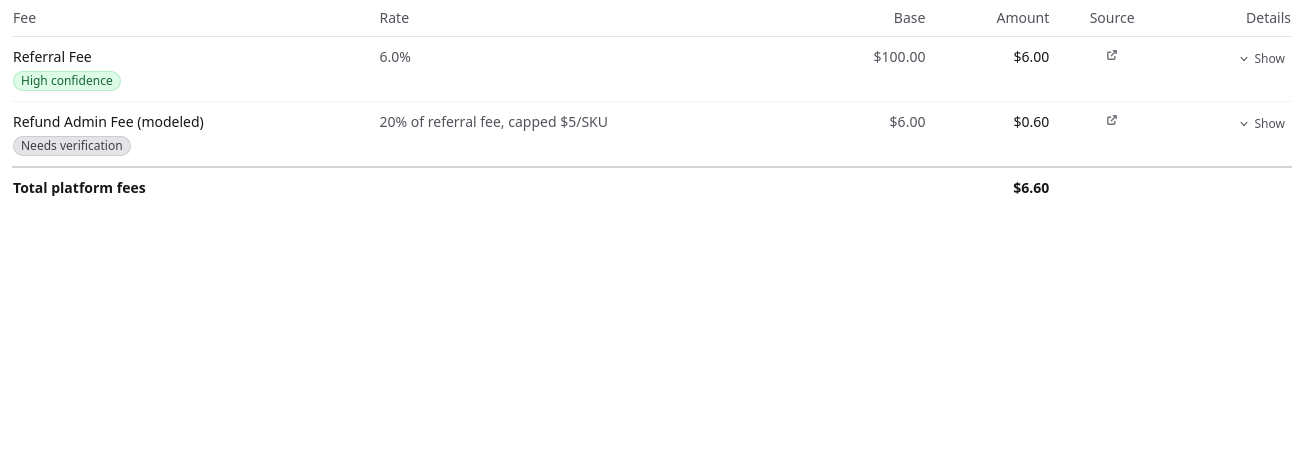
FeeBreakdownTable › expands a row to reveal the audit trail and collapses it again
expect the text "Official source" is not shown: met
What coordinates should you click on to do the following:
click the button "Show" in the row of "6.0%"
I would click on:
 (1261, 59)
Its box is [1230,47,1291,71].
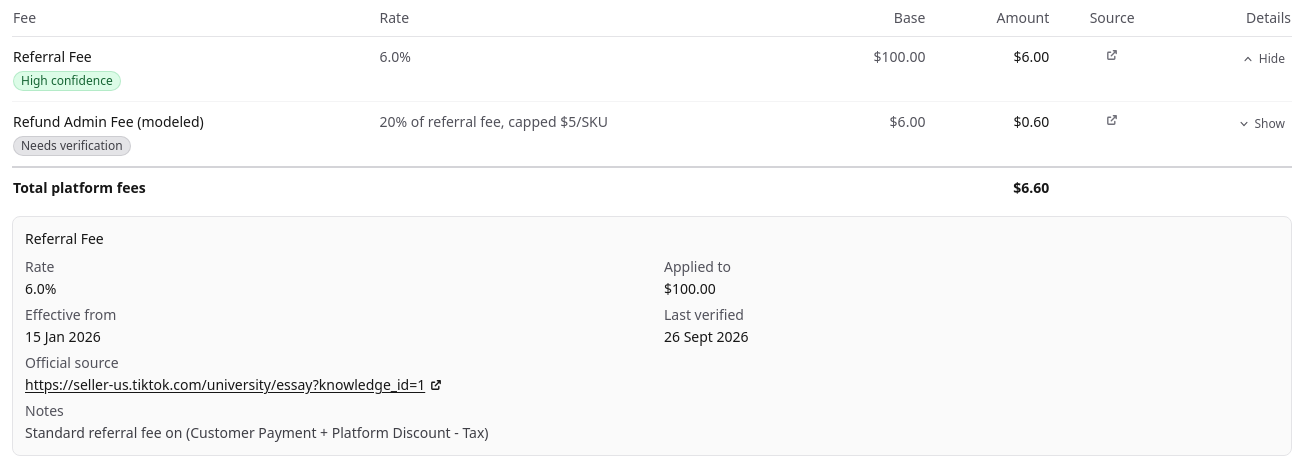
expect the button "Hide" is expanded: met
expect the element with id "fee-detail-0" is shown: met, box [12,216,1292,456]
expect the element with id "fee-detail-0" shows "Standard referral fee": met, box [25,423,488,442]
What coordinates should you click on to do the following:
click the button "Hide"
I would click on:
 (1263, 59)
Its box is [1235,47,1291,71].
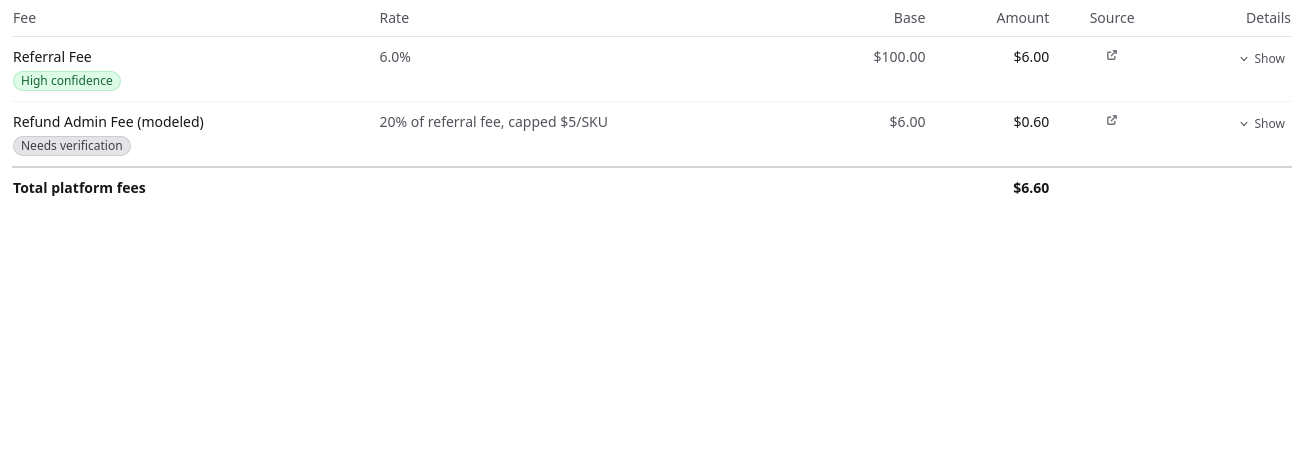
expect the button "Show" in the row of "6.0%" is collapsed: met, box [1230,47,1291,71]
